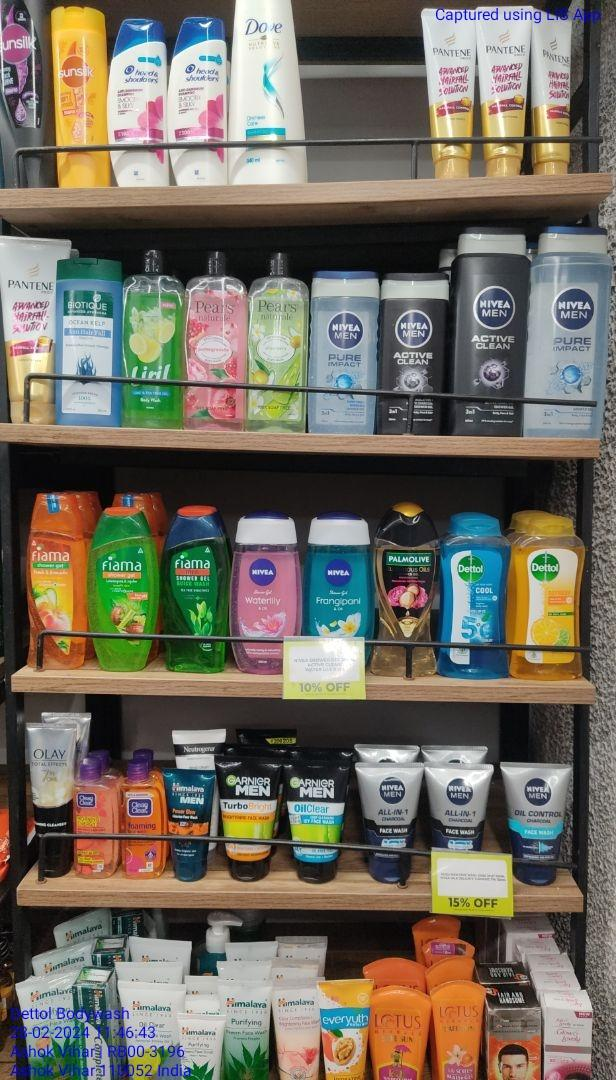Dettol_Bodywash_Cool: (441, 512, 509, 683)
Dettol_Bodywash_Refresh: (516, 513, 582, 684)
Fiama_Shower_Gel_Lemongrass_and_Jojoba_250ML: (89, 508, 156, 675)
Liril_Lime_and_Tea_Tree_Oil_Body_Wash_250ML: (121, 248, 182, 431)
Nivea_Shower_Gel_Frangipani_and_Oil_250ML: (304, 513, 372, 670)
Nivea_Shower_Gel_Waterlily_and_Oil_250ML: (232, 513, 300, 676)
Palmolive_Luminous_Oils_Invigorating_Macadamia_Oil_With_Peony_250ML: (375, 502, 437, 682)
Pears_Naturale_Aloe_Vera_Body_Wash_250ML: (250, 249, 309, 436)
